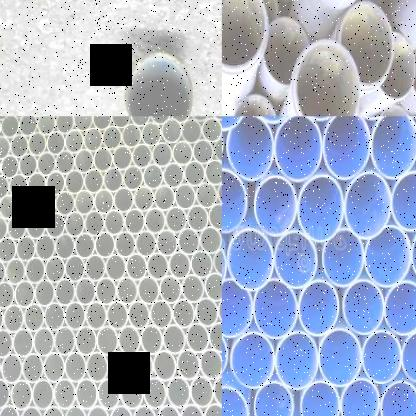pipe: (294, 40, 360, 116), (340, 0, 394, 87), (124, 50, 193, 116), (344, 170, 392, 240), (222, 0, 269, 70), (264, 17, 311, 86), (274, 116, 322, 182), (297, 175, 344, 242), (226, 116, 274, 180), (323, 116, 371, 180), (365, 225, 412, 287), (228, 228, 274, 291), (371, 116, 416, 179), (254, 278, 297, 340), (254, 174, 296, 237), (230, 332, 275, 389), (319, 328, 362, 387), (276, 331, 318, 390), (322, 228, 364, 287), (275, 231, 318, 288), (380, 32, 416, 100), (299, 280, 339, 337), (342, 280, 384, 334), (362, 330, 402, 384), (222, 280, 253, 338), (384, 280, 416, 335), (222, 168, 248, 233), (391, 170, 416, 232), (340, 378, 379, 416), (254, 381, 293, 416), (301, 381, 339, 416), (381, 379, 416, 416), (232, 94, 278, 116), (166, 376, 191, 409), (401, 330, 416, 383), (222, 386, 248, 416), (185, 323, 210, 354), (153, 350, 177, 382), (97, 378, 121, 410), (107, 352, 131, 384), (143, 377, 166, 410), (190, 376, 213, 409), (75, 378, 98, 411), (199, 349, 222, 381), (53, 378, 76, 410), (120, 378, 143, 410), (177, 349, 200, 381), (130, 352, 154, 382), (117, 326, 141, 356), (10, 379, 33, 410), (140, 325, 163, 356), (64, 352, 87, 383), (163, 324, 186, 355), (86, 352, 108, 384), (43, 352, 65, 384), (32, 378, 54, 410), (149, 300, 173, 329), (158, 275, 182, 304), (181, 274, 204, 304), (172, 299, 195, 329), (195, 298, 218, 328), (127, 300, 150, 330), (96, 326, 118, 357), (198, 226, 222, 254), (106, 301, 129, 330), (190, 250, 213, 279), (137, 276, 160, 305), (12, 328, 34, 358), (75, 326, 97, 356), (116, 276, 138, 306), (85, 302, 107, 332), (22, 353, 43, 384), (1, 353, 22, 384), (54, 278, 76, 307), (64, 302, 86, 331), (95, 277, 117, 306), (33, 328, 54, 358), (3, 304, 24, 334), (54, 326, 75, 356), (44, 302, 65, 332), (177, 228, 200, 255), (186, 205, 209, 232), (168, 252, 191, 279), (156, 229, 178, 257), (75, 277, 96, 306), (195, 182, 218, 208), (165, 206, 187, 233), (84, 255, 106, 282), (94, 232, 116, 259), (147, 253, 169, 280), (200, 116, 222, 143), (151, 141, 173, 168), (14, 281, 35, 309), (126, 253, 147, 281), (44, 256, 65, 284), (24, 303, 44, 332), (192, 139, 214, 165), (122, 165, 144, 191), (142, 164, 164, 190), (174, 184, 196, 210), (183, 161, 205, 187), (74, 233, 96, 259), (34, 280, 55, 307), (84, 210, 105, 237), (154, 185, 175, 212), (64, 211, 85, 238), (6, 214, 27, 241), (64, 256, 85, 283), (163, 162, 184, 189), (105, 254, 126, 281), (135, 231, 156, 258), (25, 257, 45, 285), (160, 119, 182, 144), (140, 122, 162, 147), (131, 144, 153, 169), (16, 193, 37, 219), (5, 259, 26, 285), (172, 140, 193, 166), (54, 234, 75, 260), (133, 186, 154, 212), (113, 187, 134, 213), (124, 209, 145, 235), (144, 208, 165, 234), (115, 232, 136, 258), (15, 236, 36, 262), (73, 148, 94, 174), (181, 118, 202, 144), (104, 209, 124, 236), (94, 188, 114, 215), (25, 214, 46, 239), (74, 190, 95, 215), (204, 273, 222, 302), (27, 172, 47, 198), (36, 192, 56, 218), (93, 147, 113, 173), (112, 145, 132, 171), (121, 123, 141, 149), (55, 191, 75, 216), (45, 213, 65, 238), (103, 167, 123, 192), (64, 170, 84, 195), (36, 235, 55, 261), (8, 174, 28, 198), (102, 126, 122, 150), (64, 130, 84, 154), (46, 171, 65, 196), (28, 132, 47, 157), (18, 153, 37, 178), (37, 151, 56, 176), (84, 169, 103, 194), (10, 133, 28, 159), (204, 160, 222, 186), (0, 155, 19, 179), (46, 131, 65, 155), (84, 127, 102, 152), (56, 150, 74, 175), (0, 280, 15, 310), (0, 116, 19, 139), (208, 322, 222, 353), (0, 195, 17, 220), (0, 237, 16, 263), (18, 116, 37, 137), (0, 328, 13, 358), (207, 204, 222, 230), (36, 116, 56, 135), (54, 116, 74, 134), (410, 223, 416, 282), (72, 116, 93, 132), (212, 376, 222, 408), (179, 404, 204, 416), (0, 378, 10, 408), (212, 247, 222, 276), (0, 135, 11, 160), (132, 405, 157, 416), (92, 116, 111, 130), (157, 405, 181, 416), (19, 405, 43, 416), (109, 405, 132, 416), (86, 405, 109, 416), (212, 138, 222, 163), (111, 116, 130, 129), (64, 405, 86, 416), (42, 405, 64, 416), (204, 404, 222, 416), (0, 175, 9, 199), (130, 116, 149, 127), (0, 405, 20, 415), (149, 116, 170, 125), (0, 216, 7, 242), (216, 180, 222, 207), (169, 116, 190, 123), (0, 259, 5, 285), (189, 116, 210, 122), (0, 305, 3, 334)
